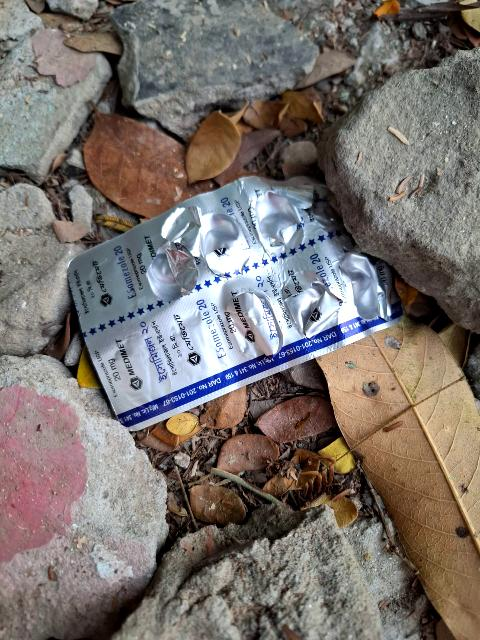medicine: (37, 128, 406, 440)
